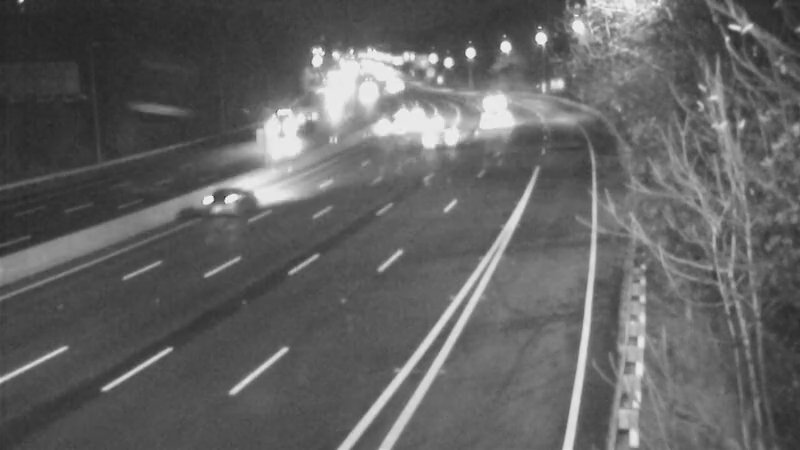vehicle: (187, 165, 267, 245), (461, 72, 511, 122), (388, 82, 438, 132), (366, 96, 416, 146), (405, 104, 455, 154), (467, 95, 517, 145), (264, 105, 314, 155)
